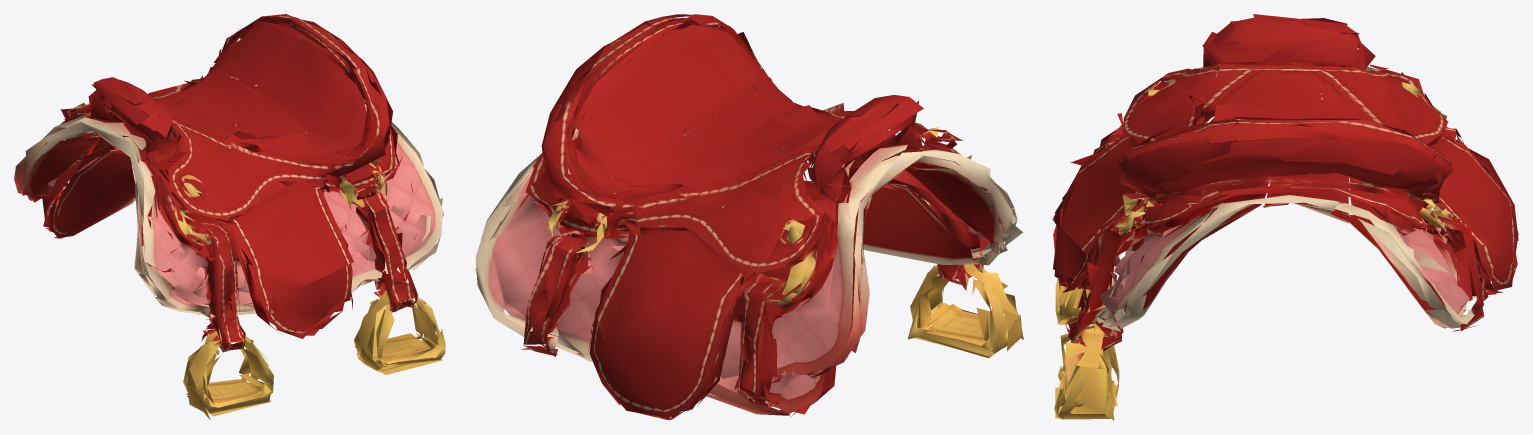
3 views of the same model, side by side, from view 1: azimuth 30°, elevation 25°; view 2: azimuth 150°, elevation 25°; view 3: azimuth 270°, elevation 25° (orthographic). The views are drawn at different scales.
Parts seen in each view (by area): view 1: saddle-red; view 2: saddle-red; view 3: saddle-red.
Part boxes in pixels (x1,y1,x2,y2): saddle-red: (14,14,445,419); saddle-red: (474,14,1023,420); saddle-red: (1052,14,1518,420).
Bounding box in the file's own units: 0.3112 × 0.2518 × 0.3623.
Materials: 1 (1 with a texture image).
